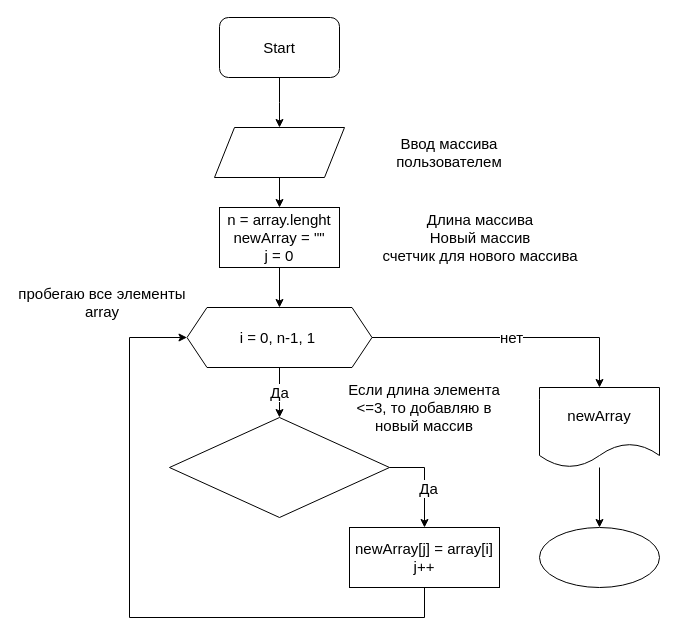
Some shapes in this 677 by 643 pixel diagram are drawn without their labels. Each missing label, with the centre of its shape:
"array" goes at (279,152).
"array[i].lenght <= 3" goes at (279,467).
"end" goes at (599,557).
